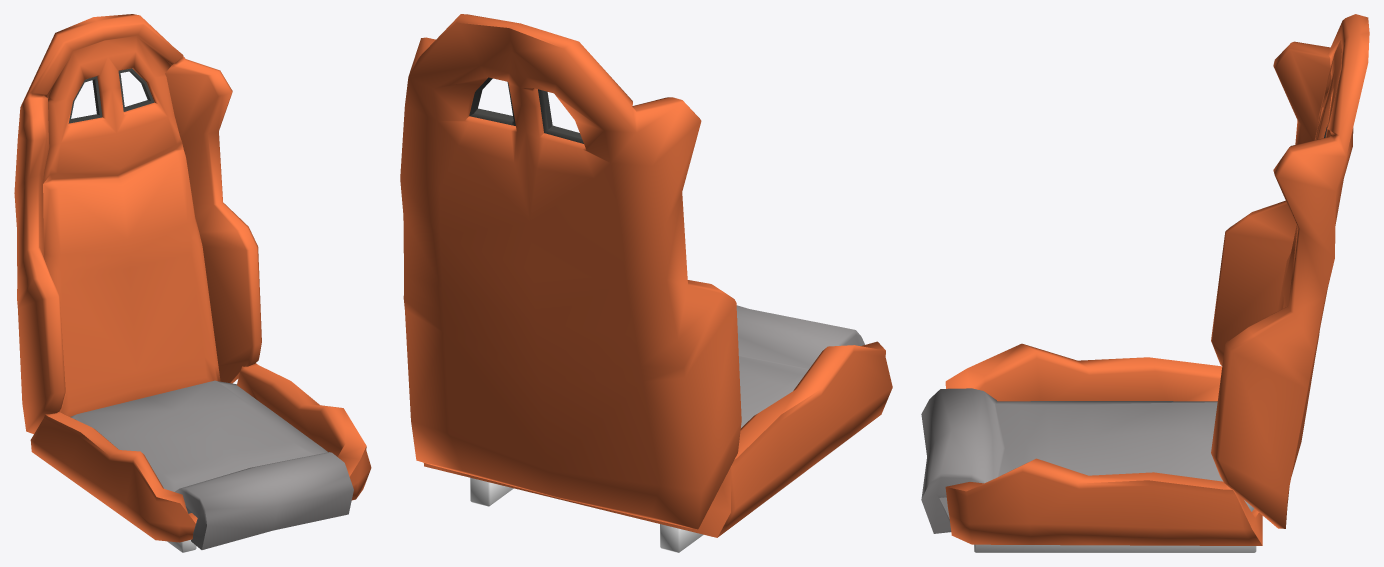
The model's file is auto2.glb.
3 views of the same model, side by side, from view 1: azimuth 30°, elevation 25°; view 2: azimuth 150°, elevation 25°; view 3: azimuth 270°, elevation 25° (orthographic). The views are drawn at different scales.
Visible parts, largest first — view 1: top, bseat, bottom, lem; view 2: top, bottom, bseat, Cube, lem; view 3: top, bottom, bseat, Cube.
Part boxes in pixels (x1,y1,x2,y2): top: (14,14,261,433); bseat: (70,380,353,549); bottom: (30,363,371,542); lem: (68,68,154,123); top: (400,14,741,529); bottom: (424,341,892,537); bseat: (736,305,864,427); Cube: (470,478,703,552); lem: (469,77,583,143); top: (1211,14,1369,528); bottom: (945,343,1262,545); bseat: (921,388,1254,533); Cube: (974,544,1256,552).
Bounding box in the file's own units: 129 × 220 × 187.
